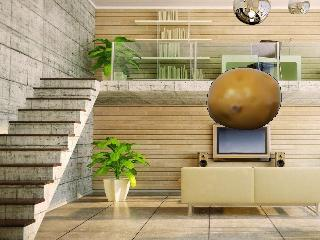potato: (205, 62, 288, 134)
